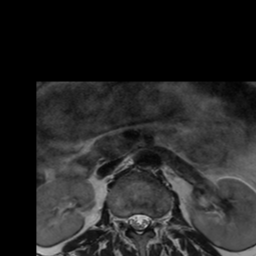CCS_normal: (135, 206, 144, 238)
LFS_stenosis: (153, 211, 160, 232)
LLS_normal: (143, 210, 152, 234)
RFS_stenosis: (120, 211, 127, 233)
RLS_normal: (128, 209, 135, 231)
